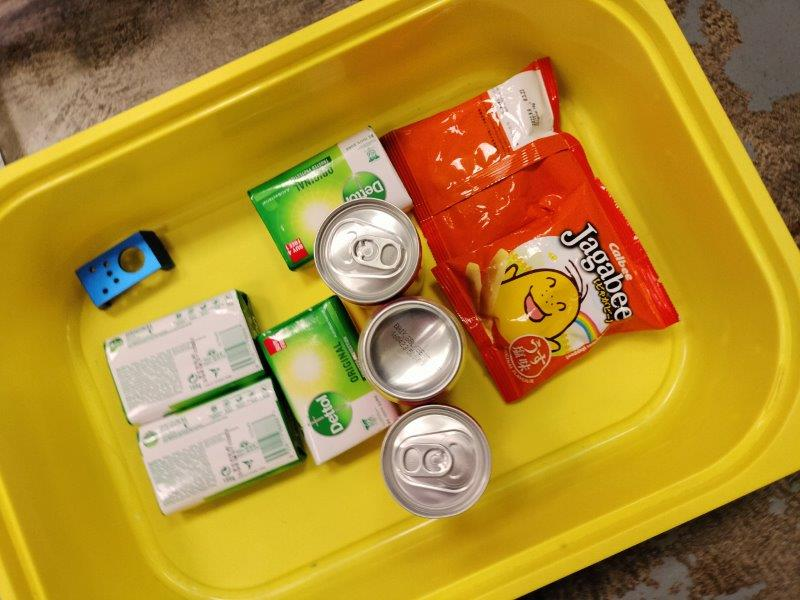Coke: (384, 408, 488, 516), (316, 203, 417, 301), (361, 303, 461, 397)
Dettol: (258, 300, 394, 463), (138, 382, 299, 516), (255, 131, 409, 268), (105, 295, 267, 422)
Jagabee: (434, 181, 676, 401), (385, 59, 589, 268)
